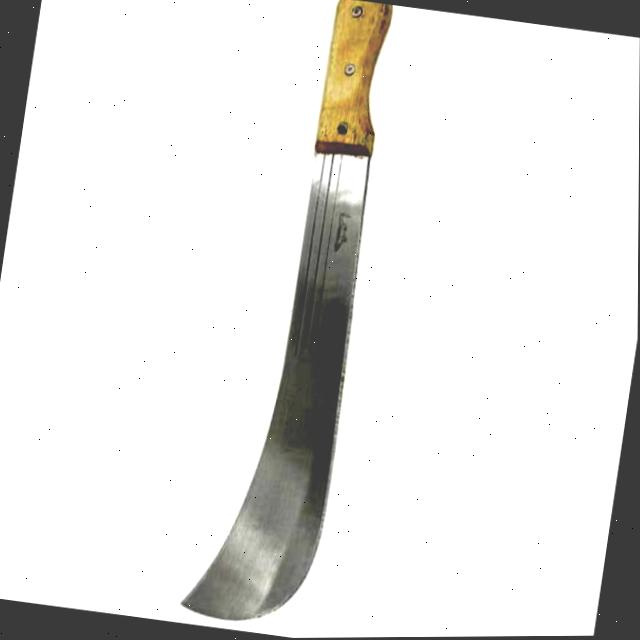long knife: (159, 0, 457, 639)
